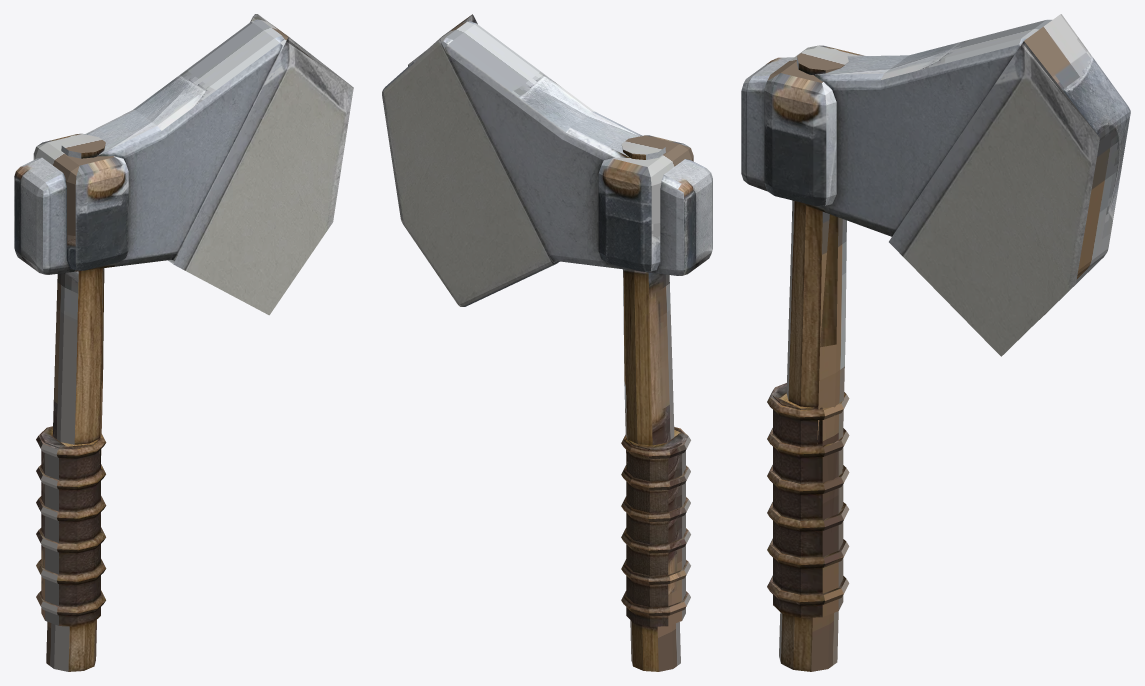
Rendered from axe_offhand.glb.
3 renders of one model, left to right at view 1: azimuth 30°, elevation 25°; view 2: azimuth 150°, elevation 25°; view 3: azimuth 330°, elevation 25°, orthographic. The views are drawn at different scales.
Visible parts, largest first — view 1: Sharpened axe cutting edge.002, Forged crescent axe blade.002, Axe ash handle.002, Leather axe grip.002, Iron axe socket.002, Grip wrapping.017, Grip wrapping.015, Grip wrapping.012, Grip wrapping.013, Grip wrapping.014, Grip wrapping.016; view 2: Forged crescent axe blade.002, Sharpened axe cutting edge.002, Axe ash handle.002, Leather axe grip.002, Iron axe socket.002, Grip wrapping.017, Grip wrapping.013, Grip wrapping.014, Grip wrapping.016, Grip wrapping.015, Grip wrapping.012; view 3: Sharpened axe cutting edge.002, Forged crescent axe blade.002, Axe ash handle.002, Leather axe grip.002, Iron axe socket.002, Grip wrapping.013, Grip wrapping.012, Grip wrapping.014, Grip wrapping.015, Grip wrapping.017, Grip wrapping.016.
Boxes of the visible parts, x1,y1,x2,y2 form: Sharpened axe cutting edge.002: (168, 14, 353, 315); Forged crescent axe blade.002: (14, 19, 287, 274); Axe ash handle.002: (46, 134, 105, 671); Leather axe grip.002: (41, 426, 100, 626); Iron axe socket.002: (33, 133, 128, 270); Grip wrapping.017: (36, 427, 106, 458); Grip wrapping.015: (36, 496, 106, 521); Grip wrapping.012: (36, 590, 105, 616); Grip wrapping.013: (36, 559, 106, 584); Grip wrapping.014: (36, 527, 105, 553); Grip wrapping.016: (36, 464, 105, 490); Forged crescent axe blade.002: (440, 21, 712, 275); Sharpened axe cutting edge.002: (382, 14, 559, 306); Axe ash handle.002: (621, 136, 680, 671); Leather axe grip.002: (626, 427, 685, 626); Iron axe socket.002: (598, 135, 693, 271); Grip wrapping.017: (621, 428, 690, 459); Grip wrapping.013: (621, 559, 690, 584); Grip wrapping.014: (621, 528, 690, 553); Grip wrapping.016: (621, 465, 690, 490); Grip wrapping.015: (621, 496, 690, 521); Grip wrapping.012: (621, 591, 690, 616); Sharpened axe cutting edge.002: (889, 14, 1130, 356); Forged crescent axe blade.002: (741, 19, 1112, 264); Axe ash handle.002: (779, 47, 848, 671); Leather axe grip.002: (773, 383, 843, 617); Iron axe socket.002: (764, 45, 864, 206); Grip wrapping.013: (767, 538, 849, 568); Grip wrapping.012: (767, 575, 849, 605); Grip wrapping.014: (767, 502, 849, 531); Grip wrapping.015: (767, 465, 849, 494); Grip wrapping.017: (767, 383, 849, 420); Grip wrapping.016: (767, 428, 849, 457).
Bounding box in the file's own units: 0.6196 × 1.12 × 0.16.
Materials: 4 (4 with a texture image).
